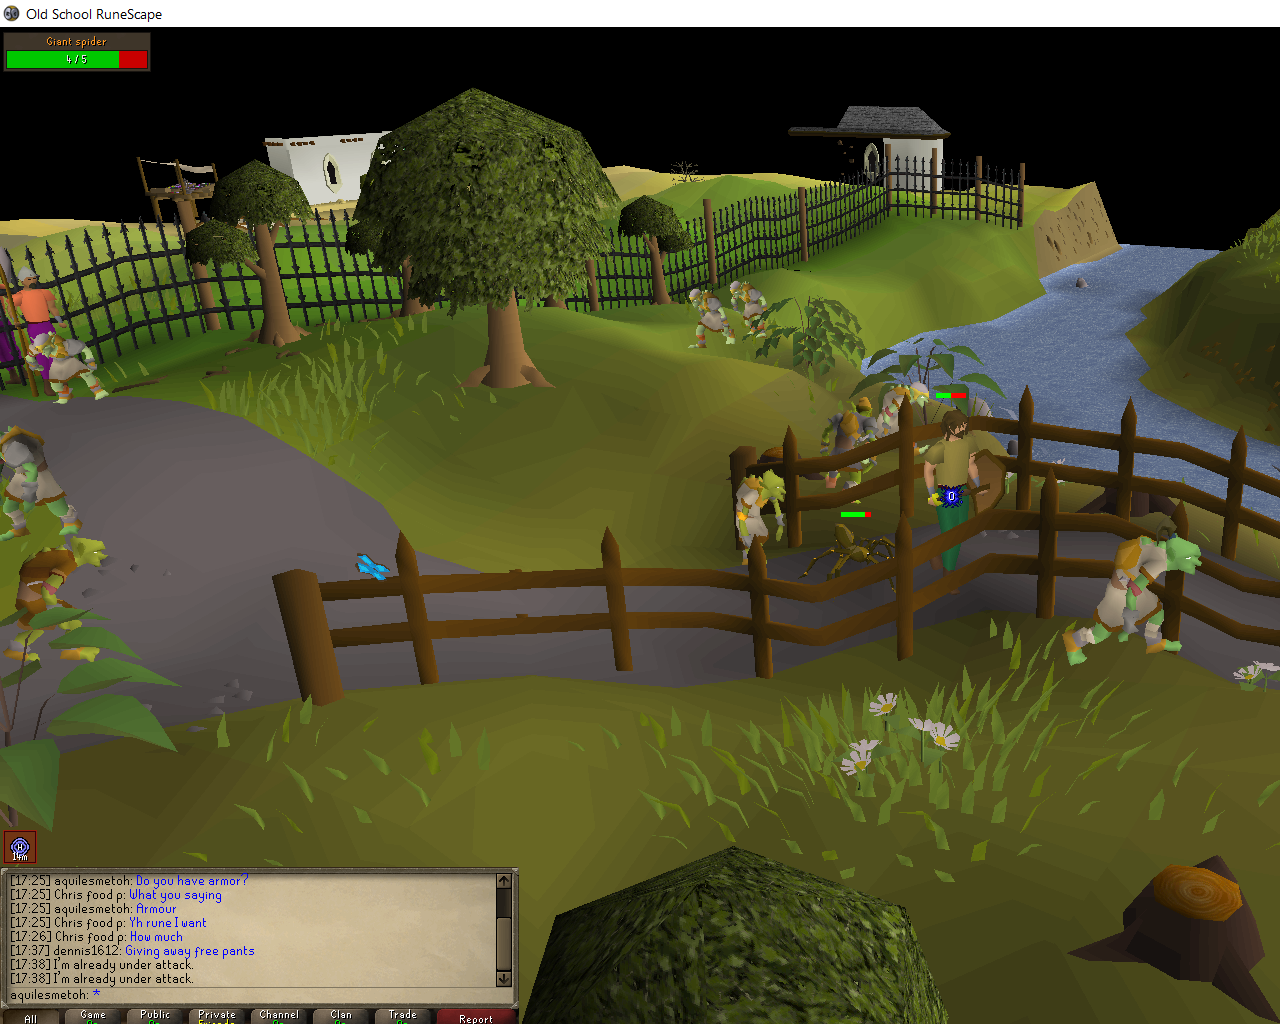Goblin: (1063, 525, 1204, 670), (2, 536, 104, 662), (1, 425, 88, 534), (20, 331, 118, 406), (817, 398, 883, 490), (730, 468, 790, 565), (868, 379, 940, 456), (689, 288, 736, 351), (728, 280, 775, 338)
